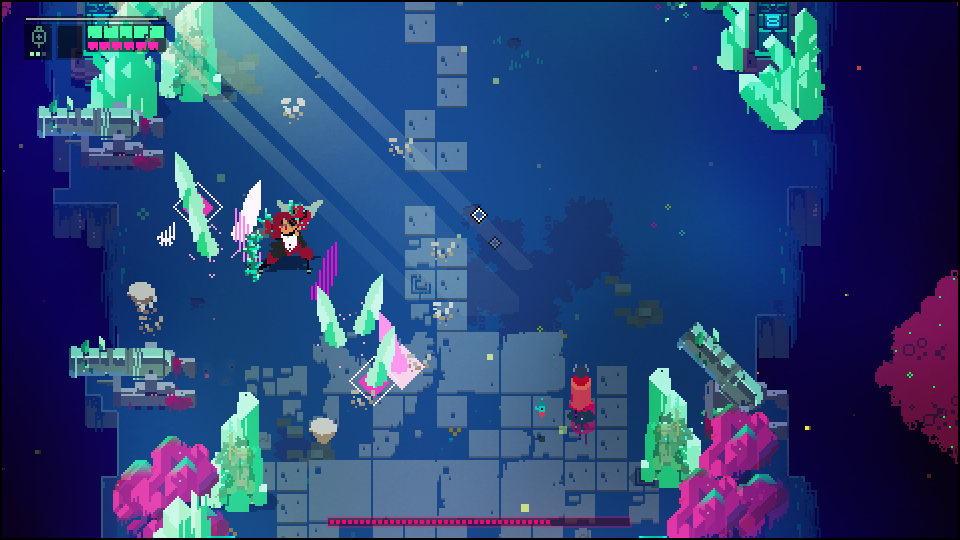hanged_crys: (364, 324, 397, 391), (317, 285, 349, 348), (188, 199, 221, 256), (355, 272, 385, 333), (173, 151, 203, 196)
hanged_man: (239, 198, 326, 291)
player: (568, 361, 596, 425)
